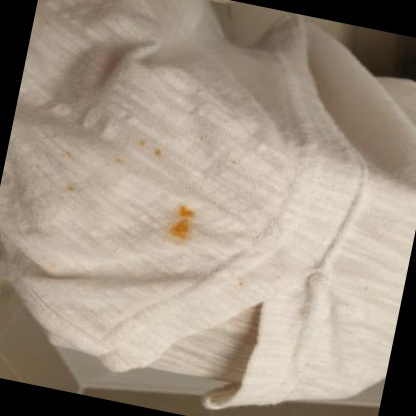kimchi: (166, 204, 195, 244), (150, 145, 166, 165), (110, 154, 129, 168), (134, 136, 151, 146), (234, 284, 246, 295), (66, 151, 77, 163), (65, 183, 77, 193), (227, 158, 237, 168)
